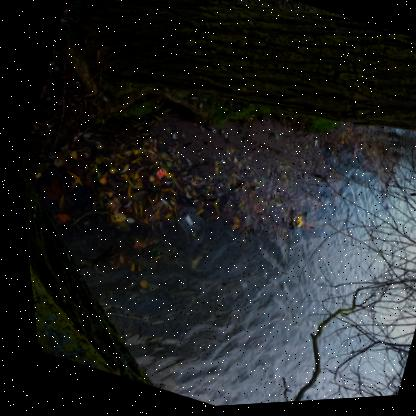Plastic: (170, 208, 197, 236)
Waste: (150, 169, 161, 181), (265, 135, 274, 142), (154, 148, 159, 153), (309, 141, 312, 149)
